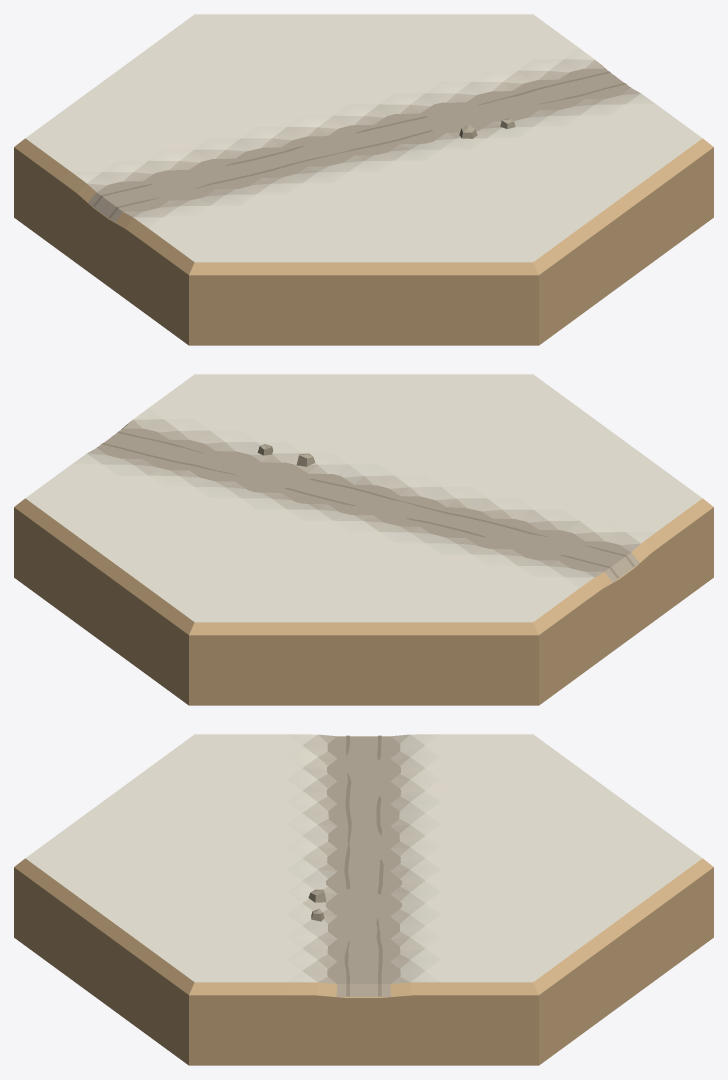
Rendered from road_straight_snow_1.fbx.
3 views of the same model, one above another, from view 1: azimuth 30°, elevation 25°; view 2: azimuth 150°, elevation 25°; view 3: azimuth 270°, elevation 25° (orthographic).
Parts seen in each view (by area): view 1: road_straight_snow_1; view 2: road_straight_snow_1; view 3: road_straight_snow_1.
Part boxes in pixels (x1,y1,x2,y2): road_straight_snow_1: (14,14,713,345); road_straight_snow_1: (14,374,713,705); road_straight_snow_1: (14,734,713,1065).
Size of the model in its own units: 1.73 by 0.2752 by 2.
